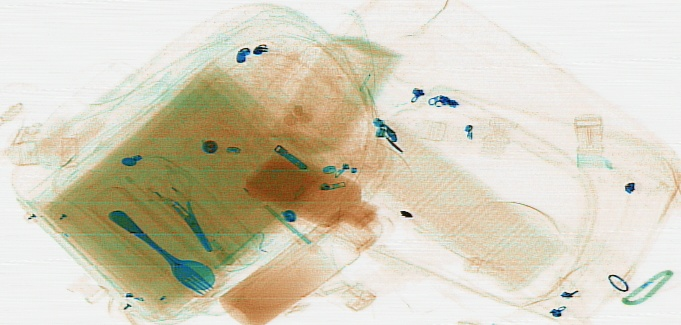scissors: (143, 163, 214, 251)
